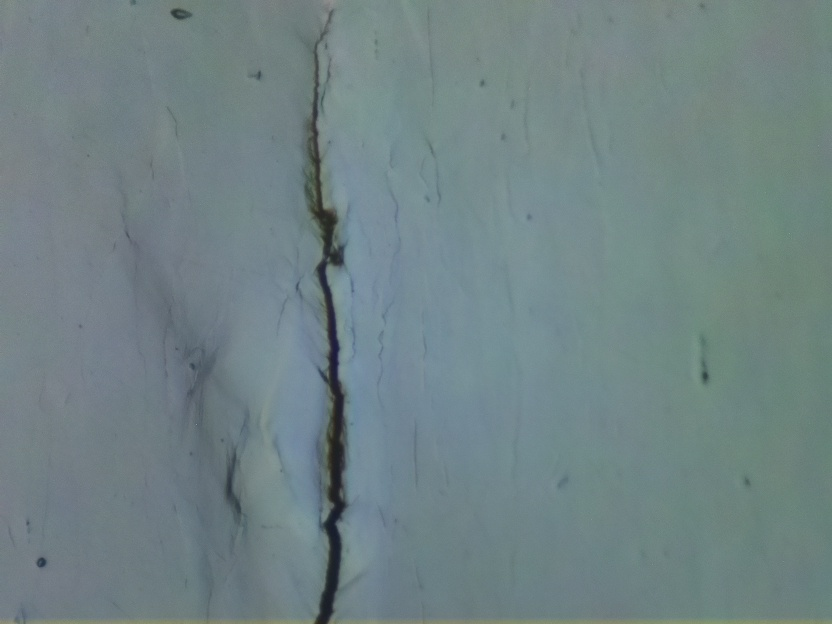crack: (307, 8, 345, 624)
